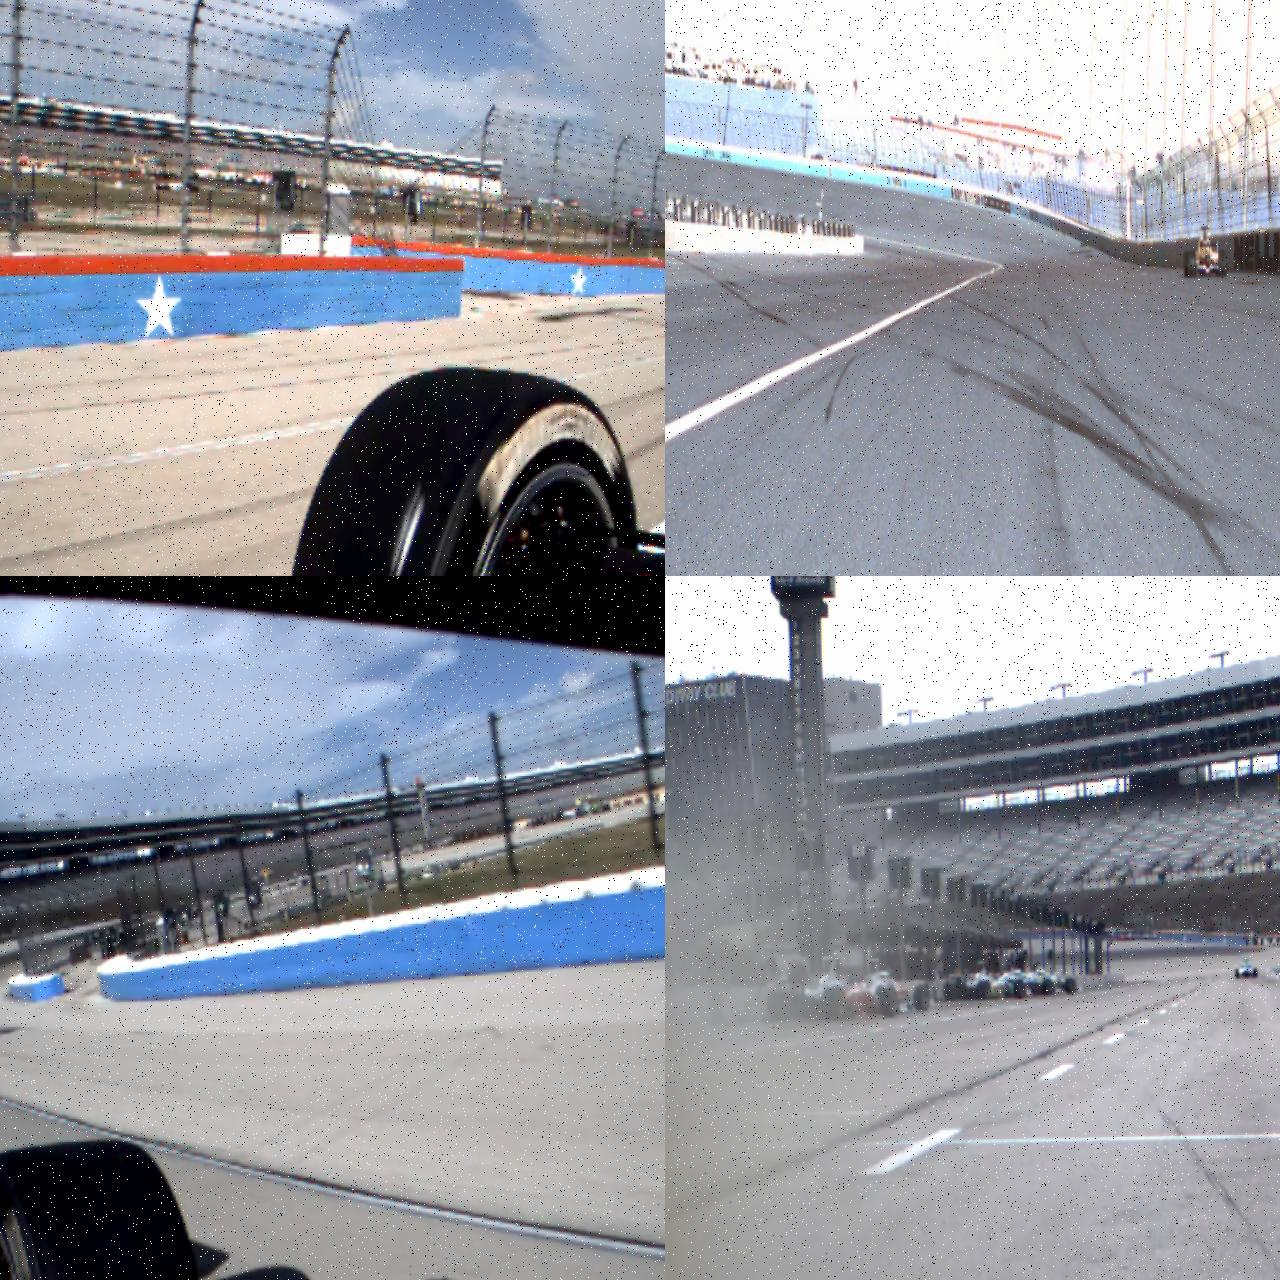AV: (1183, 225, 1227, 278), (1235, 959, 1258, 979)
Wheel: (285, 365, 644, 576), (0, 1138, 202, 1280), (767, 990, 791, 1021), (825, 990, 845, 1017), (880, 988, 898, 1017), (914, 983, 930, 1012), (976, 980, 990, 1000), (1219, 250, 1227, 277), (1042, 979, 1054, 995), (1189, 251, 1196, 278), (1014, 982, 1026, 998), (1065, 978, 1076, 994), (1184, 251, 1190, 277), (1253, 968, 1258, 978), (1235, 968, 1239, 979)
